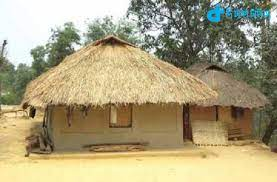Mud House: (26, 41, 199, 161), (182, 59, 269, 154)
